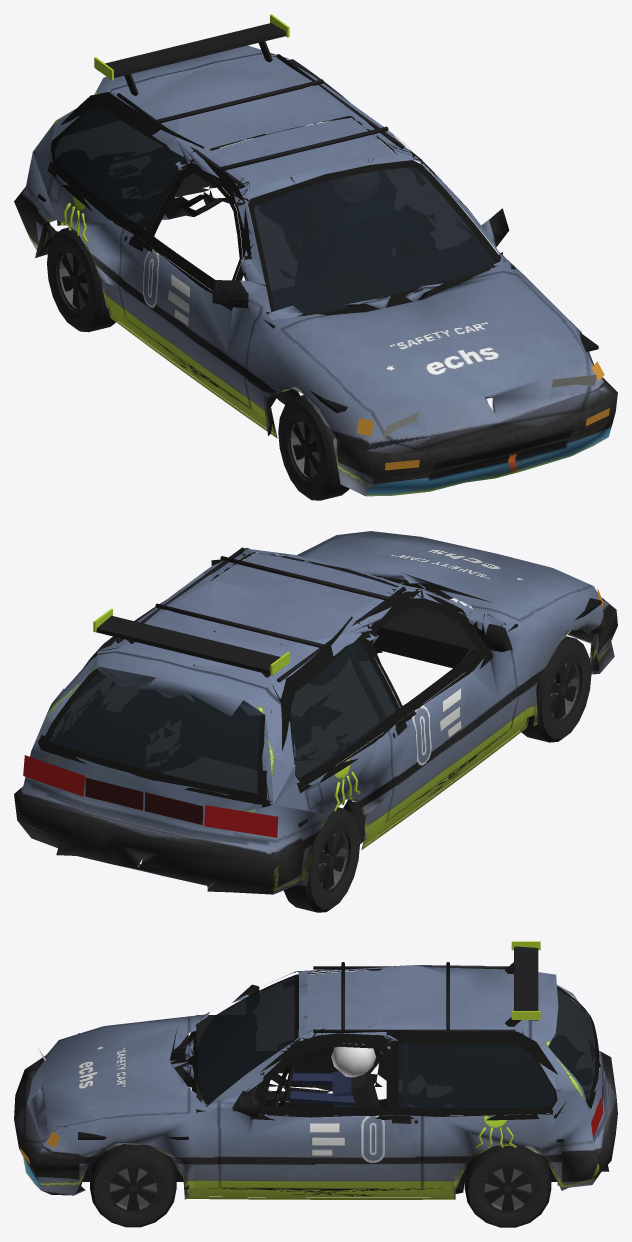
3 views of the same model, one above another, from view 1: azimuth 30°, elevation 25°; view 2: azimuth 150°, elevation 25°; view 3: azimuth 270°, elevation 25° (orthographic). The views are drawn at different scales.
Parts seen in each view (by area): view 1: body, wheel_fr, wheel_rr; view 2: body, wheel_fr, wheel_rr; view 3: body, wheel_fl, wheel_rl.
Part boxes in pixels (x1,y1,x2,y2): body: (14,14,617,496); wheel_fr: (278,395,349,500); wheel_rr: (47,227,117,332); body: (14,531,617,894); wheel_fr: (520,636,591,742); wheel_rr: (283,807,359,912); body: (14,941,617,1199); wheel_fl: (90,1144,176,1227); wheel_rl: (464,1145,551,1227).
Bounding box in the file's own units: 1.86 × 1.48 × 4.03.
2 materials, 1 textured.
